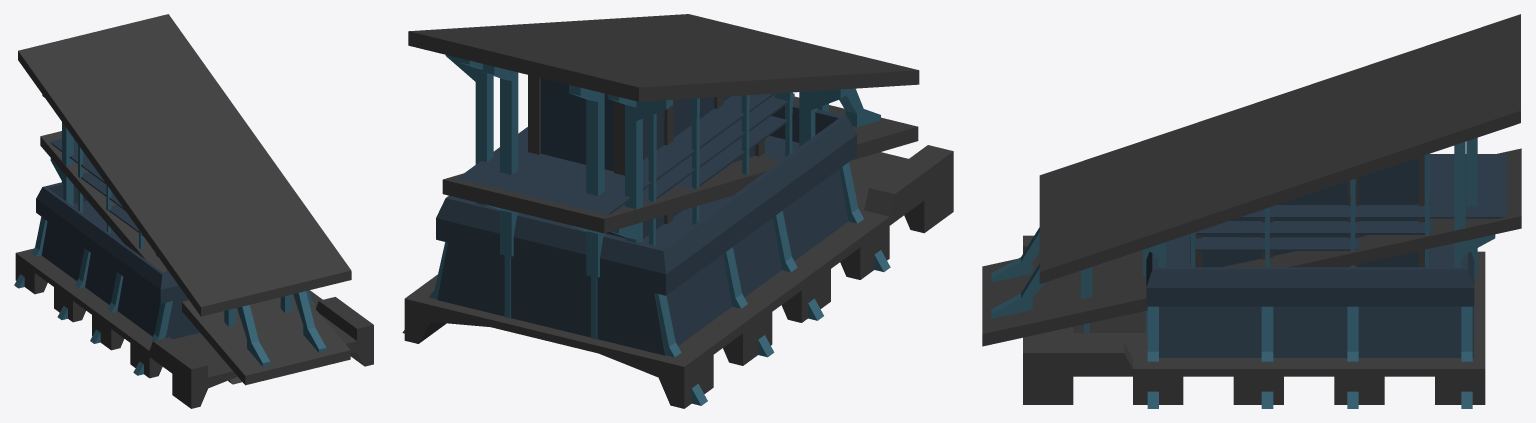
File: UTOPIAhotel.glb
3 renders of one model, left to right at view 1: azimuth 30°, elevation 25°; view 2: azimuth 150°, elevation 25°; view 3: azimuth 270°, elevation 25°, orthographic. The views are drawn at different scales.
Parts seen in each view (by area): view 1: Cube.001, Cube.010, Cube.003, Cube.004, Cube.011, Cube.009, Cube.005, Cube.002, Cube.006, Cube; view 2: Cube.001, Cube.010, Cube.011, Cube.004, Cube.006, Cube.002, Cube.003, Cube.008, Cube, Cube.005, Cube.009, Cube.013; view 3: Cube.001, Cube.010, Cube.003, Cube.011, Cube.004, Cube.002, Cube.008, Cube.005, Cube.006, Cube, Cube.009.
Boxes of the visible parts, <box> form: Cube.001: <box>18,14,351,316</box>; Cube.010: <box>15,248,373,408</box>; Cube.003: <box>40,131,350,385</box>; Cube.004: <box>36,182,186,303</box>; Cube.011: <box>41,221,200,339</box>; Cube.009: <box>224,291,326,366</box>; Cube.005: <box>14,217,314,375</box>; Cube.002: <box>50,138,142,235</box>; Cube.006: <box>42,94,73,206</box>; Cube: <box>78,144,167,270</box>; Cube.001: <box>408,14,919,101</box>; Cube.010: <box>404,145,953,408</box>; Cube.011: <box>437,169,848,355</box>; Cube.004: <box>436,95,856,295</box>; Cube.006: <box>445,55,817,339</box>; Cube.002: <box>457,93,787,214</box>; Cube.003: <box>442,96,918,233</box>; Cube.008: <box>540,78,755,238</box>; Cube: <box>528,75,792,245</box>; Cube.005: <box>402,162,890,405</box>; Cube.009: <box>774,88,880,127</box>; Cube.013: <box>811,89,847,110</box>; Cube.001: <box>1039,14,1520,283</box>; Cube.010: <box>1023,235,1485,404</box>; Cube.003: <box>982,148,1521,346</box>; Cube.011: <box>1159,306,1473,357</box>; Cube.004: <box>1146,234,1474,306</box>; Cube.002: <box>1195,154,1506,250</box>; Cube.008: <box>1202,157,1418,267</box>; Cube.005: <box>1147,306,1472,408</box>; Cube.006: <box>1143,137,1495,332</box>; Cube: <box>1190,153,1429,267</box>; Cube.009: <box>991,227,1092,332</box>.
Bounding box in the file's own units: 99.84 × 105 × 182.
1 material, 1 textured.
